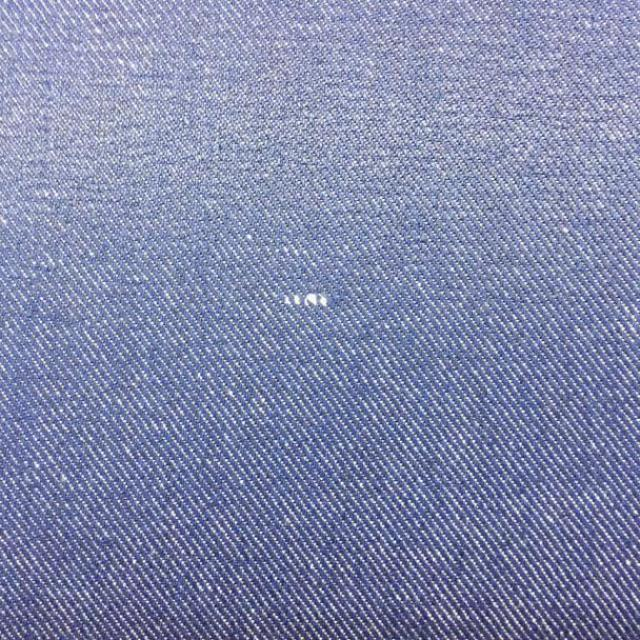Knot: (283, 294, 332, 307)
